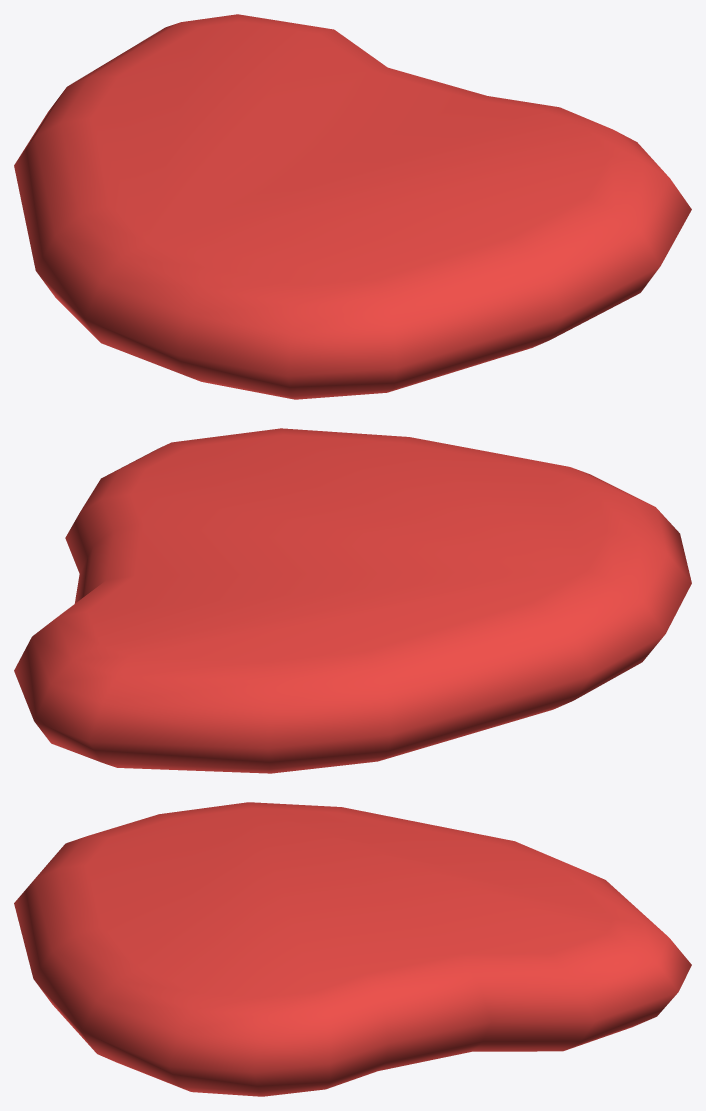
Rendered from MeetHitBox.fbx.
The picture shows the model from 3 angles, top to bottom: view 1: azimuth 30°, elevation 25°; view 2: azimuth 150°, elevation 25°; view 3: azimuth 270°, elevation 25°; orthographic projection. The views are drawn at different scales.
Visible parts, largest first — view 1: 肉; view 2: 肉; view 3: 肉.
Boxes of the visible parts, <box> form: 肉: <box>14,14,691,399</box>; 肉: <box>14,428,691,773</box>; 肉: <box>14,802,691,1096</box>.
Bounding box in the file's own units: 57.64 × 10.16 × 66.67.
